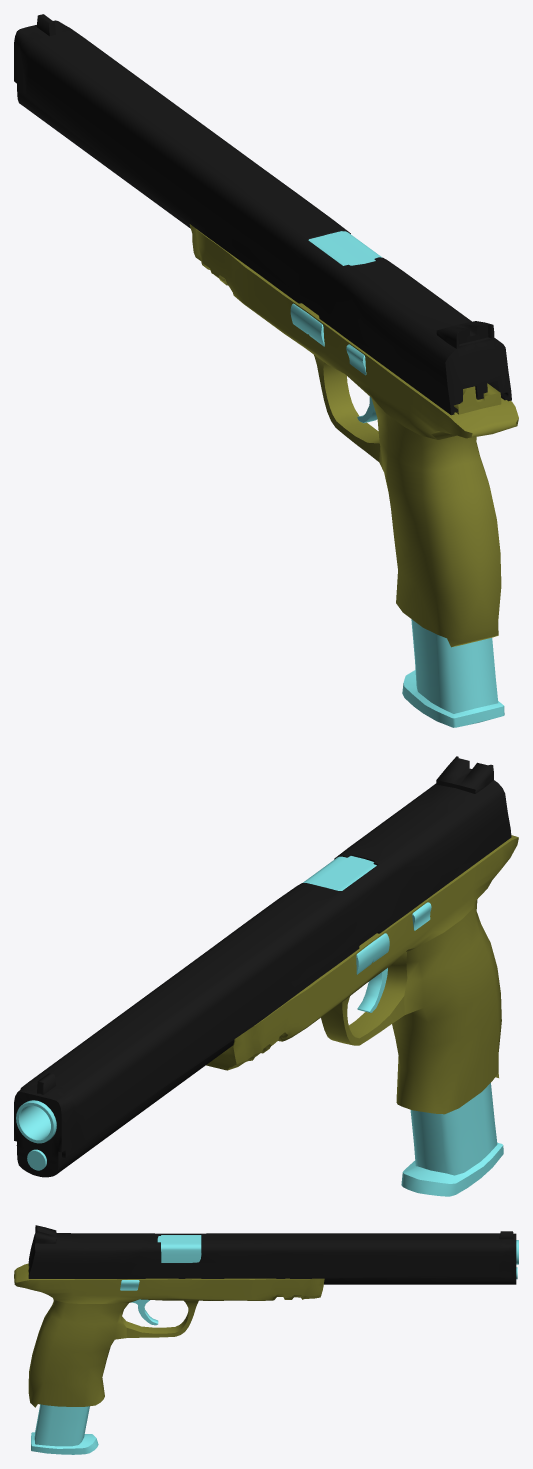
Rendered from PGM.fbx.
3 renders of one model, top to bottom at view 1: azimuth 30°, elevation 25°; view 2: azimuth 150°, elevation 25°; view 3: azimuth 270°, elevation 25°, orthographic. The views are drawn at different scales.
Visible parts, largest first — view 1: Base; view 2: Base; view 3: Base.
Boxes of the visible parts, box(x1,y1,x2,y2) form: Base: box(14, 14, 518, 727); Base: box(14, 756, 518, 1196); Base: box(14, 1225, 518, 1454).
Size of the model in its own units: 6.64 by 34.82 by 73.08.
